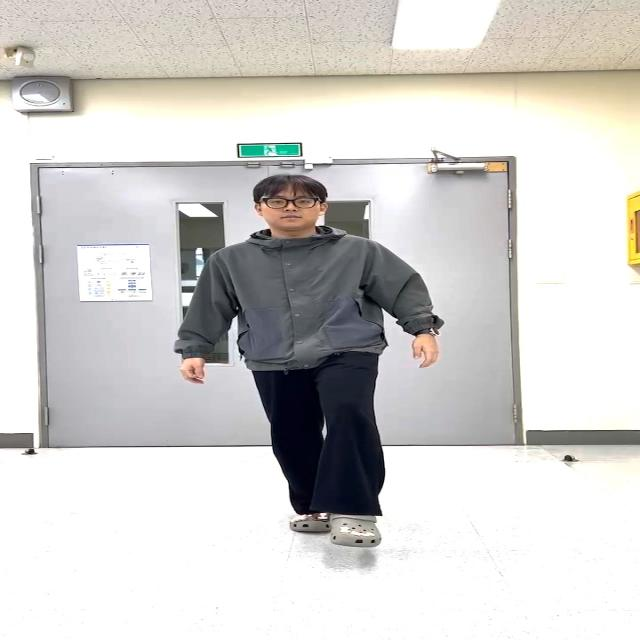leg: (314, 349, 399, 550)
